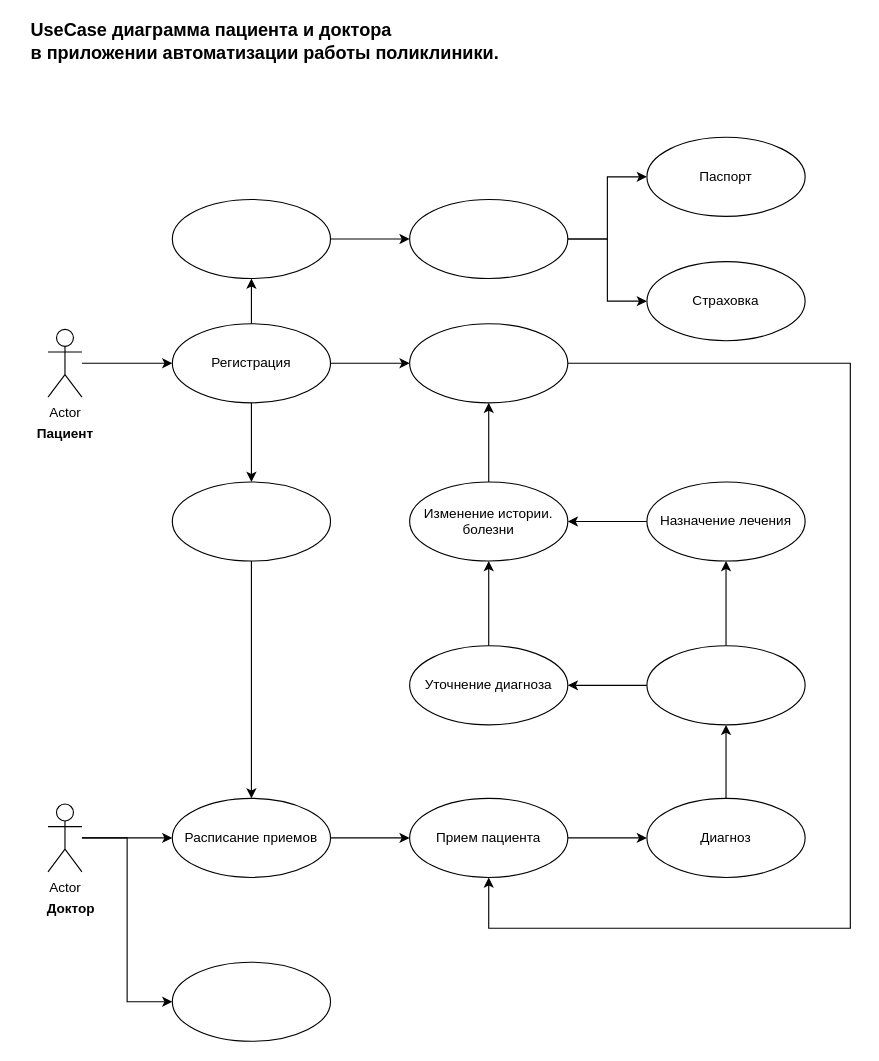
Some shapes in this 879 by 1061 pixel diagram are drawn without their labels. Here are the shapes that lost their labels. From the top down, the centre of each, then its label:
the point at 251,238: Аутентификация
the point at 488,238: Персональные данные
the point at 488,363: История болезни
the point at 251,521: Запись на прием
the point at 725,685: Анализы
the point at 251,1001: Специализация
